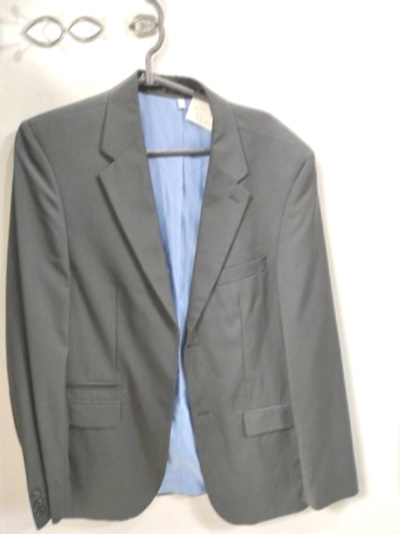Blazer: (0, 60, 367, 534), (378, 36, 400, 519), (0, 82, 4, 534)
